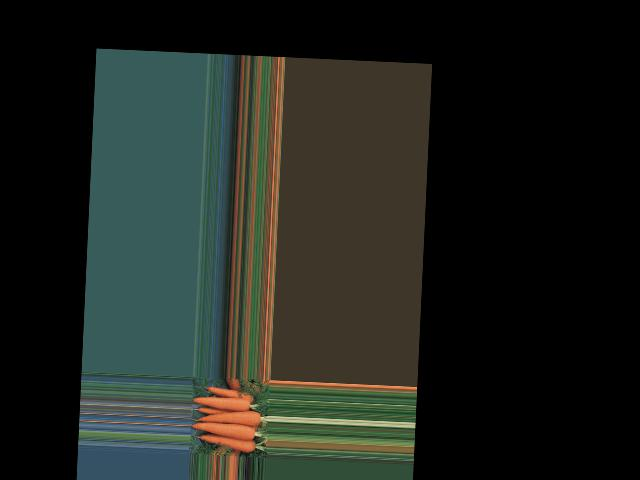carrot: (194, 392, 253, 413)
